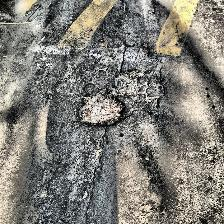pothole: (77, 92, 127, 128), (112, 70, 144, 96)
